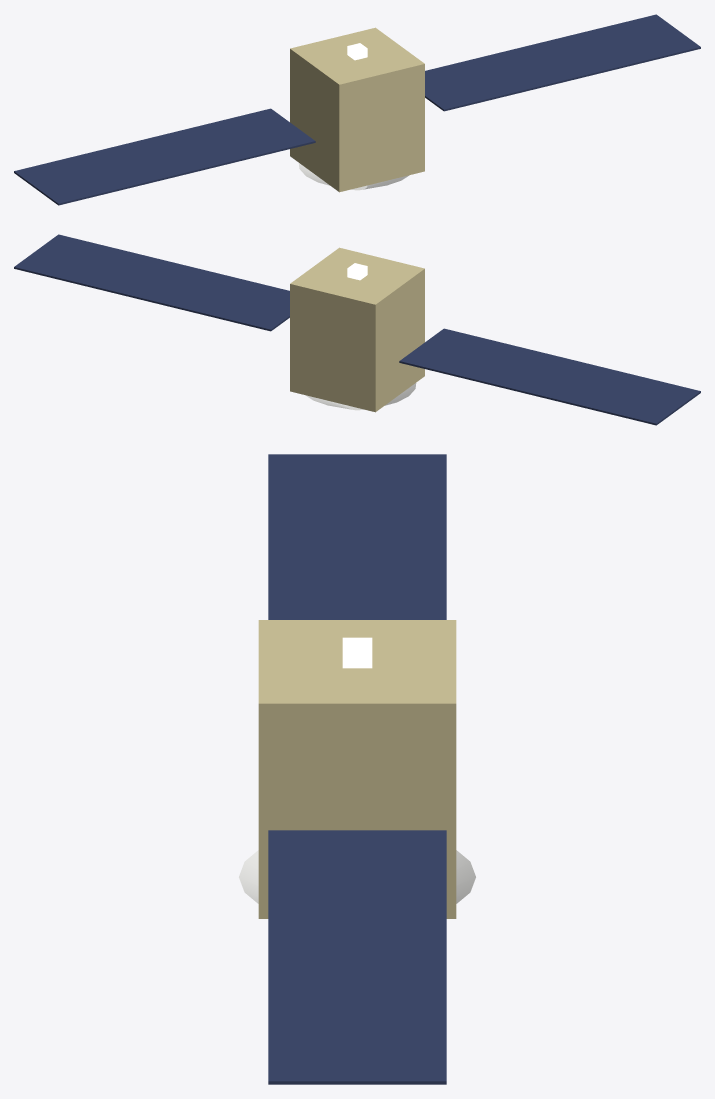
Rendered from sat_geo.glb.
3 renders of one model, top to bottom at view 1: azimuth 30°, elevation 25°; view 2: azimuth 150°, elevation 25°; view 3: azimuth 270°, elevation 25°, orthographic. The views are drawn at different scales.
Parts seen in each view (by area): view 1: Wings, Bus, Dish; view 2: Wings, Bus, Dish; view 3: Wings, Bus, Dish, Marker.
Boxes of the visible parts, x1=… form: Wings: x1=14, y1=14, x2=700, y2=205; Bus: x1=290, y1=27, x2=424, y2=192; Dish: x1=298, y1=163, x2=409, y2=190; Wings: x1=14, y1=234, x2=700, y2=425; Bus: x1=290, y1=247, x2=424, y2=412; Dish: x1=305, y1=383, x2=416, y2=410; Wings: x1=268, y1=454, x2=446, y2=1084; Bus: x1=258, y1=620, x2=456, y2=918; Dish: x1=239, y1=850, x2=475, y2=903; Marker: x1=342, y1=637, x2=372, y2=668.
Bounding box in the file's own units: 15 × 3.1 × 2.4.
